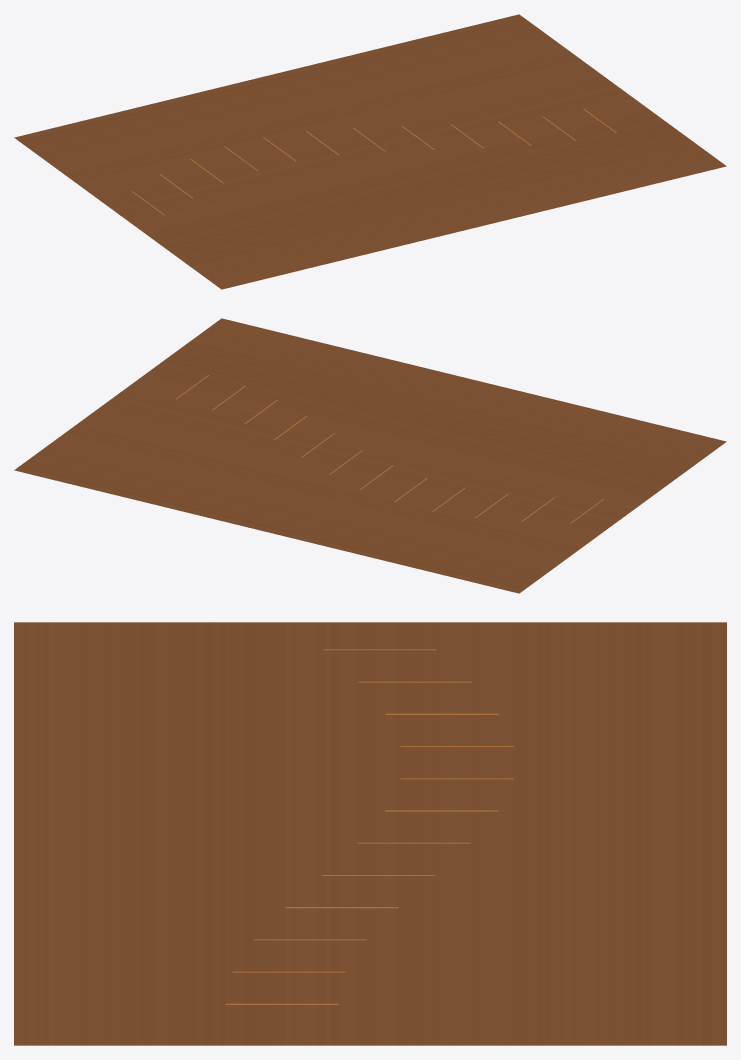
Rendered from 254_L119_L5_LayerReference.obj.
The picture shows the model from 3 angles, top to bottom: view 1: azimuth 30°, elevation 25°; view 2: azimuth 150°, elevation 25°; view 3: azimuth 270°, elevation 25°; orthographic projection. The views are drawn at different scales.
Parts seen in each view (by area): view 1: 254_L119_L5_LayerReference; view 2: 254_L119_L5_LayerReference; view 3: 254_L119_L5_LayerReference.
Boxes of the visible parts, x1,y1,x2,y2 form: 254_L119_L5_LayerReference: (14, 14, 726, 289); 254_L119_L5_LayerReference: (14, 318, 726, 593); 254_L119_L5_LayerReference: (14, 622, 726, 1045).
Bounding box in the file's own units: 0.486 × 0.00019 × 0.346.
Materials: 2 (2 with a texture image).
